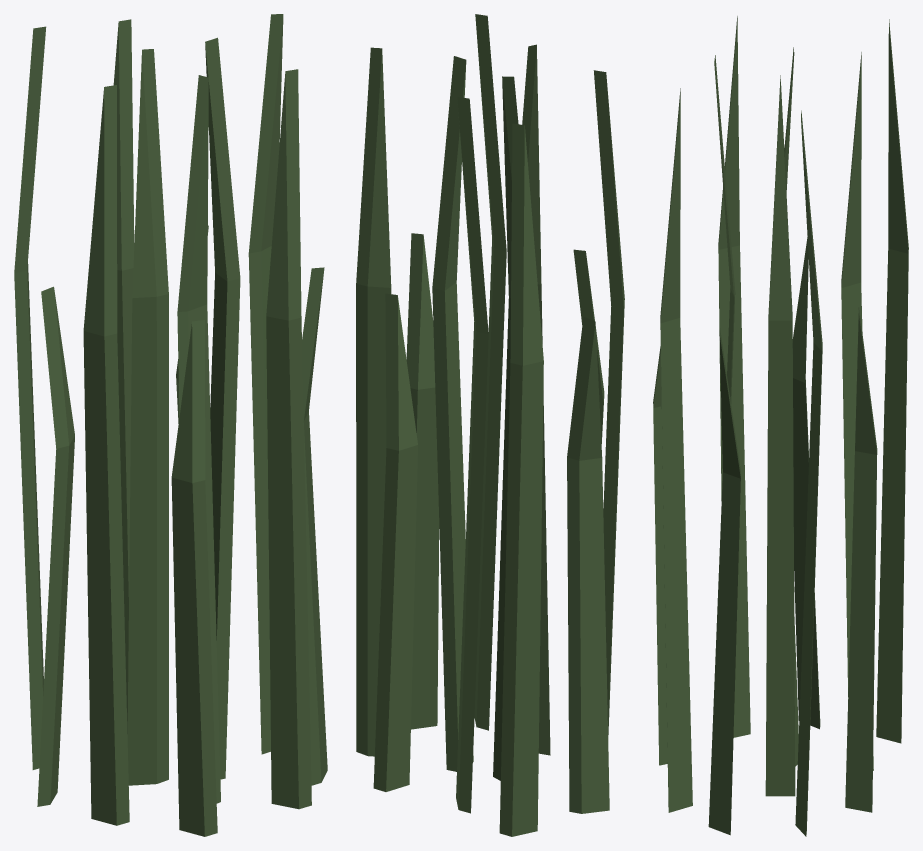
The model's file is Grass.gltf.
3 renders of one model, left to right at view 1: azimuth 30°, elevation 25°; view 2: azimuth 150°, elevation 25°; view 3: azimuth 270°, elevation 25°, orthographic. The views are drawn at different scales.
Visible parts, largest first — view 1: Grass; view 2: Grass; view 3: Grass.
Boxes of the visible parts, bbox=[...] form: Grass: bbox=[14, 14, 327, 836]; Grass: bbox=[356, 14, 624, 836]; Grass: bbox=[653, 16, 908, 836].
Bounding box in the file's own units: 0.3738 × 1.01 × 0.3272.
